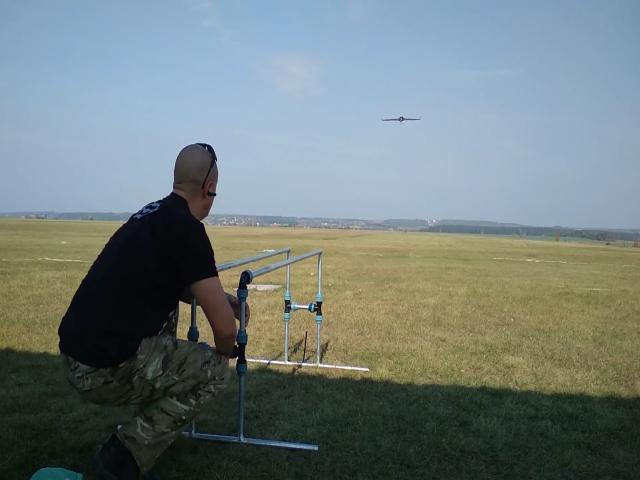plane: (381, 112, 423, 123)
